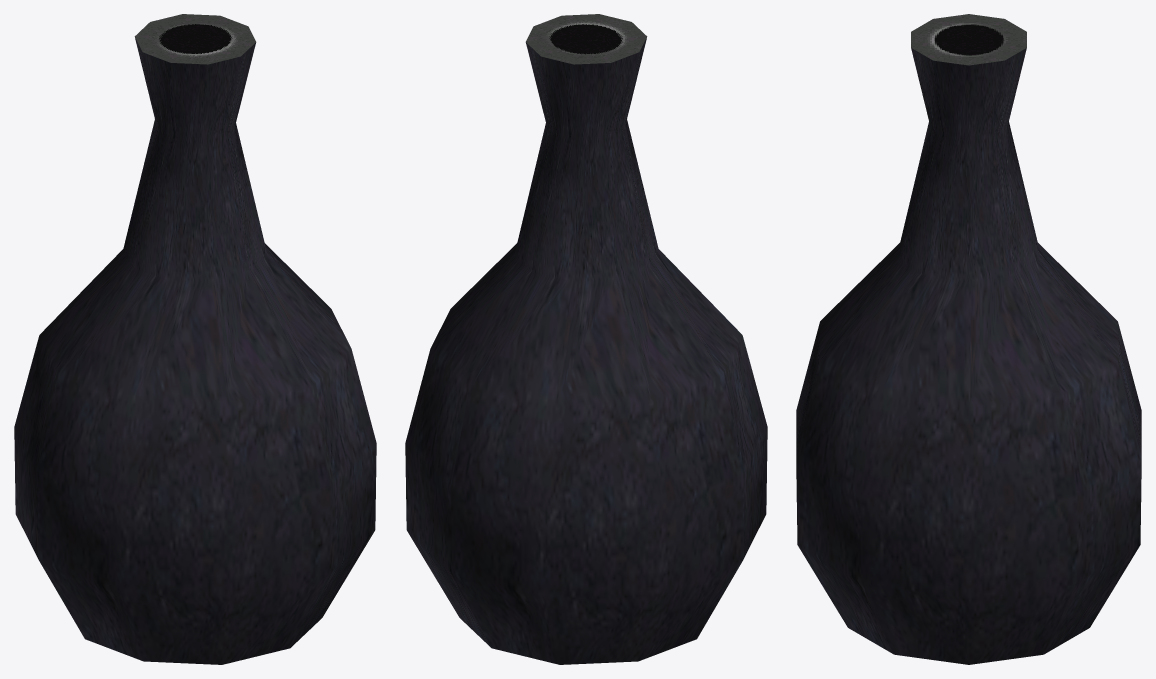
The model's file is edb_con_tato_bottle_empty_s03_l0.fbx.
3 views of the same model, side by side, from view 1: azimuth 30°, elevation 25°; view 2: azimuth 150°, elevation 25°; view 3: azimuth 270°, elevation 25° (orthographic).
Parts seen in each view (by area): view 1: mesh_node; view 2: mesh_node; view 3: mesh_node.
Part boxes in pixels (x1,y1,x2,y2): mesh_node: (14, 14, 376, 664); mesh_node: (405, 14, 767, 664); mesh_node: (796, 14, 1141, 664).
Bounding box in the file's own units: 0.2784 × 0.4831 × 0.2648.
